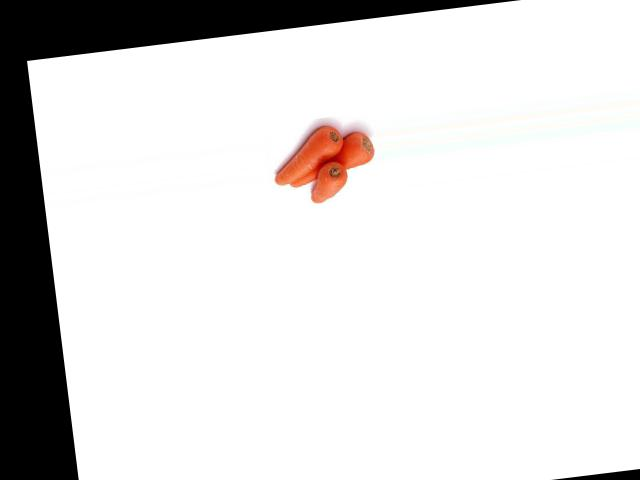carrot: (282, 127, 376, 187)
